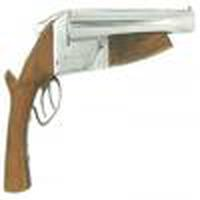gun: (5, 10, 193, 195)
